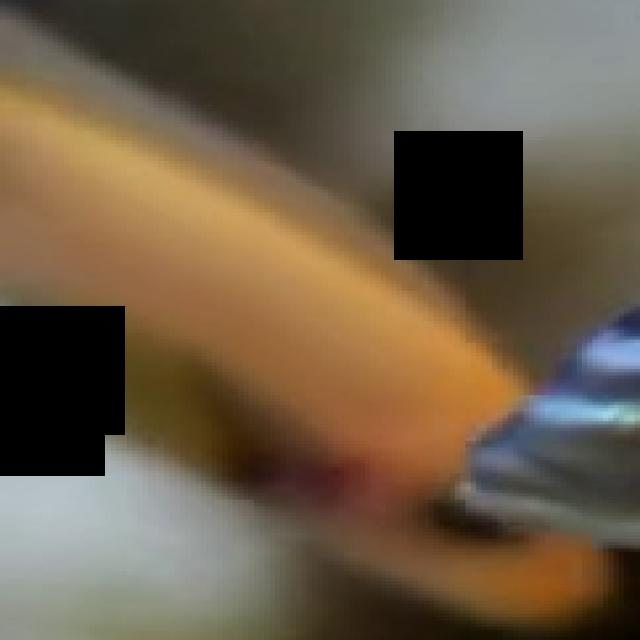fish: (5, 3, 640, 640)
